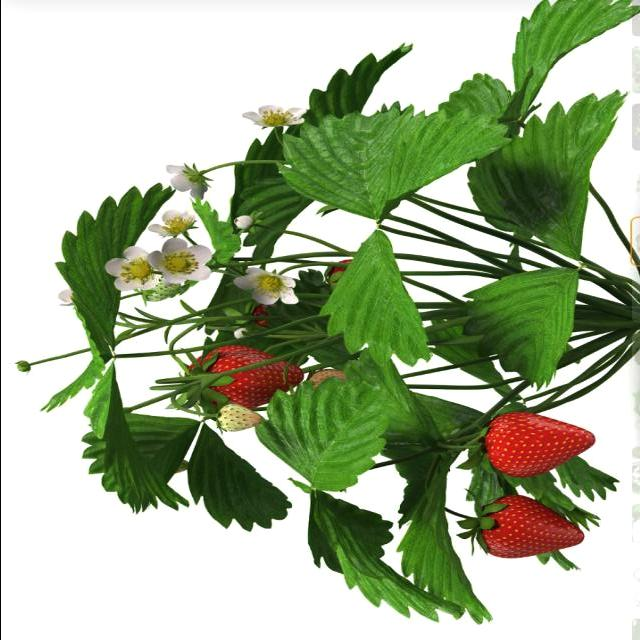ripe: (476, 494, 588, 560), (487, 411, 597, 477), (193, 344, 302, 408), (320, 252, 380, 292)
unripe: (209, 402, 266, 442), (304, 360, 357, 403)
